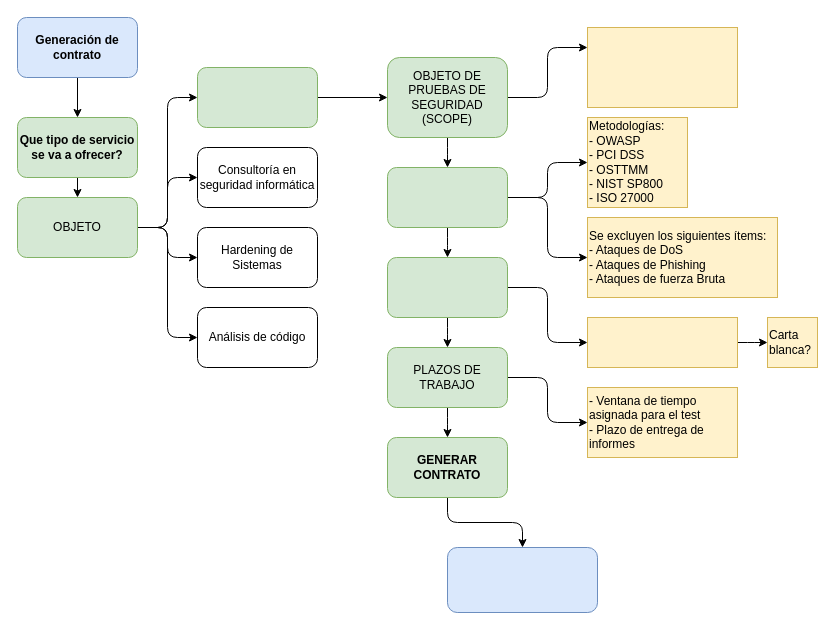
Image size: 835x630. Some labels were removed from this diagram. The centre of each missing label's shape, as x and y in pixels:
- Direcciones IP - URLs - Puertos - Servidores - LAN / WAN /DMZ: [662,67]
Cantidad de personas que participarán en el análisis: [662,342]
DESCARGAR DOCUMENTO PARA EDITAR MANUALMENTE: [522,579]
Ethical Hacking: [257,97]
METODOLOGÍA, TÉCNICAS AUTORIZADAS y EXCLUSIONES: [447,197]
PERSONAL AUTORIZADO: [447,287]
